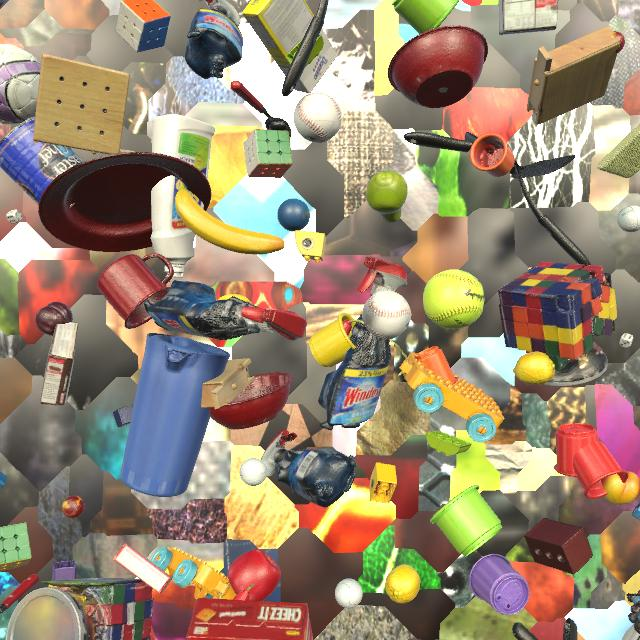ycb_002_master_chef_can: (0, 116, 84, 207), (0, 0, 6, 2)
ycb_003_cracker_box: (186, 598, 313, 640), (0, 0, 9, 9), (151, 624, 156, 640)
ycb_004_sugar_box: (242, 0, 338, 94)
ycb_008_pudding_box: (40, 322, 79, 405), (499, 0, 558, 35)
ycb_009_gelatin_box: (113, 544, 172, 593)
ycb_011_banana: (175, 184, 284, 254)
ycb_013_apple: (228, 549, 281, 601)
ycb_014_lemon: (385, 564, 420, 604), (513, 352, 555, 385), (218, 294, 252, 304)
ycb_015_peach: (601, 469, 640, 505)
ycb_016_pear: (366, 171, 408, 223)
ycb_018_plum: (35, 302, 73, 336)
